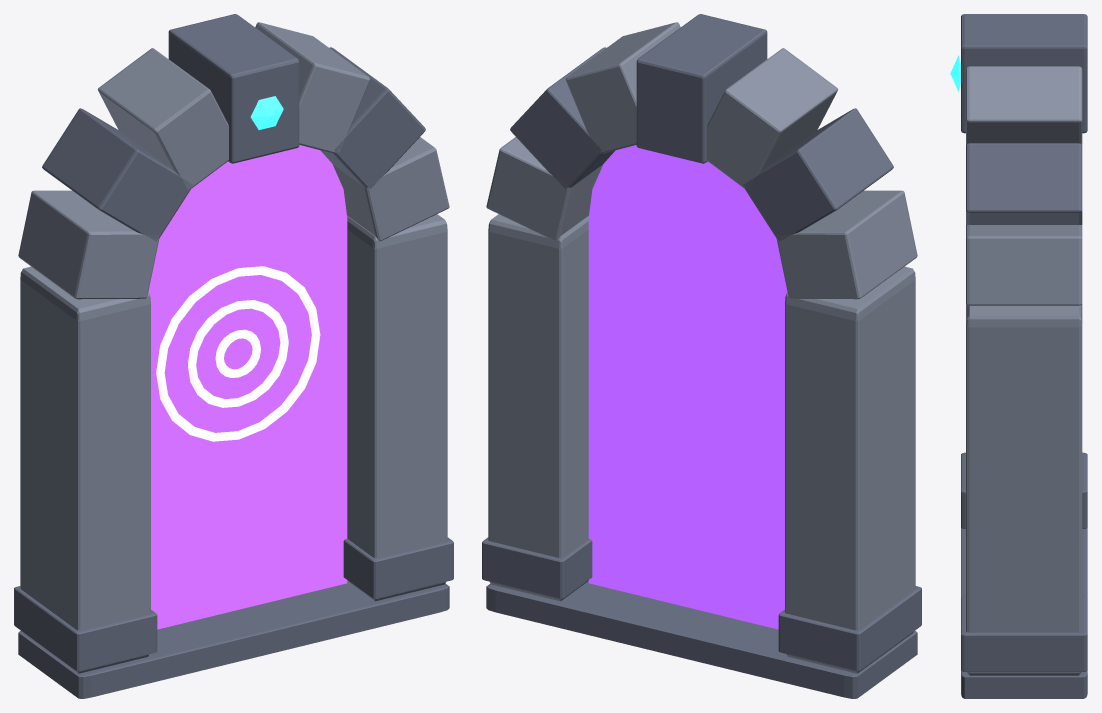
The model's file is gate.glb.
3 renders of one model, left to right at view 1: azimuth 30°, elevation 25°; view 2: azimuth 150°, elevation 25°; view 3: azimuth 270°, elevation 25°, orthographic.
Visible parts, largest first — view 1: gate; view 2: gate; view 3: gate.
Boxes of the visible parts, box(x1,y1,x2,y2) form: gate: box(14, 14, 453, 698); gate: box(482, 14, 921, 698); gate: box(950, 14, 1087, 698).
Bounding box in the file's own units: 2.04 × 3.03 × 0.65.
